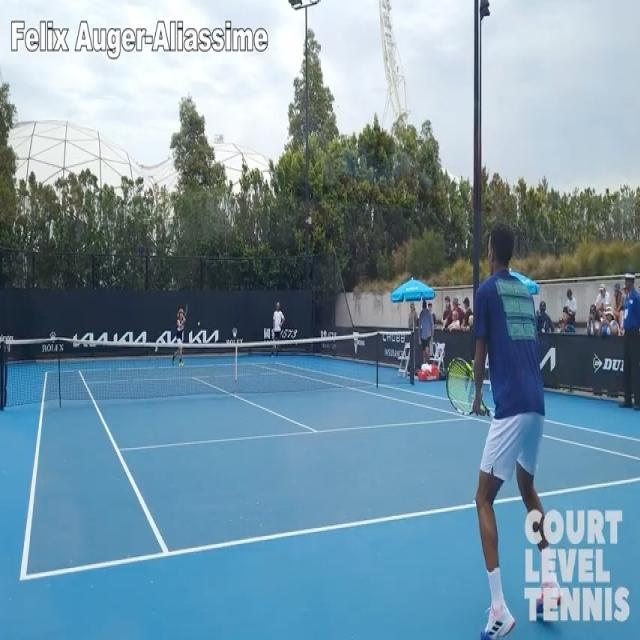ready-position: (445, 216, 578, 640)
